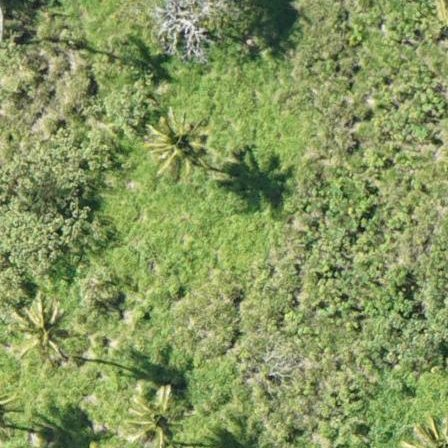palm_tree: (9, 293, 74, 362), (145, 105, 207, 172), (122, 379, 184, 445)
